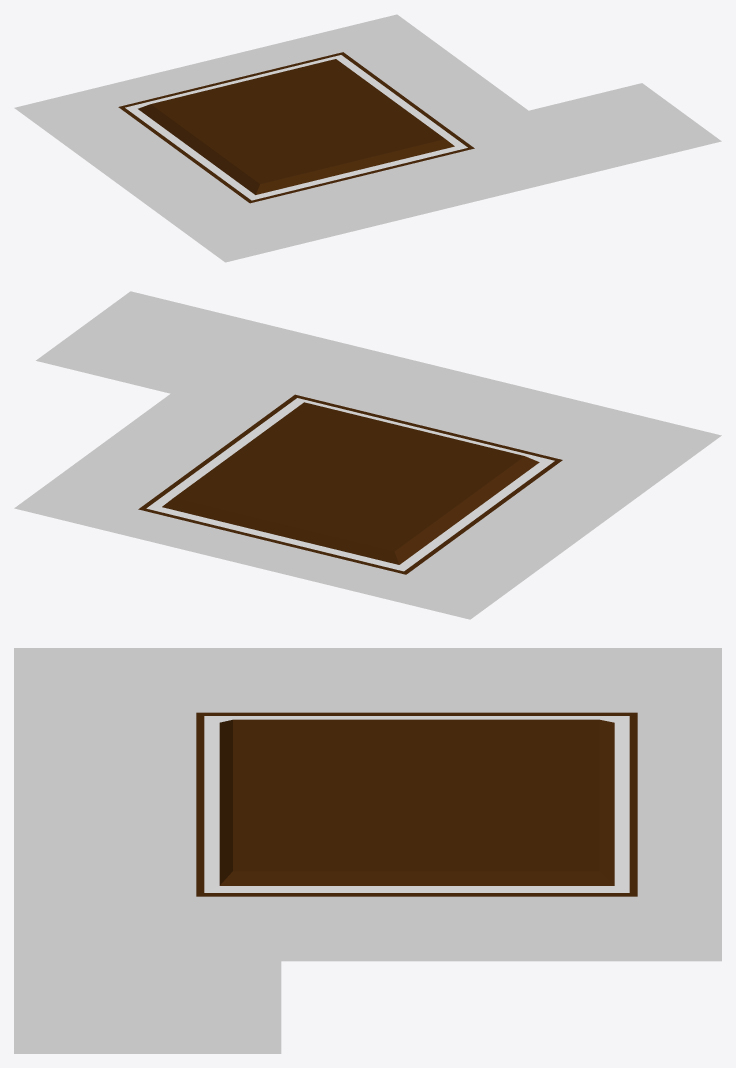
The model's file is Roof.fbx.
The picture shows the model from 3 angles, top to bottom: view 1: azimuth 30°, elevation 25°; view 2: azimuth 150°, elevation 25°; view 3: azimuth 270°, elevation 25°; orthographic projection. The views are drawn at different scales.
Parts seen in each view (by area): view 1: Roof; view 2: Roof; view 3: Roof.
Part boxes in pixels (x1,y1,x2,y2): Roof: [14, 14, 721, 262]; Roof: [14, 291, 721, 619]; Roof: [14, 648, 721, 1053].
Size of the model in its own units: 8.01 by 0.094 by 5.91.
